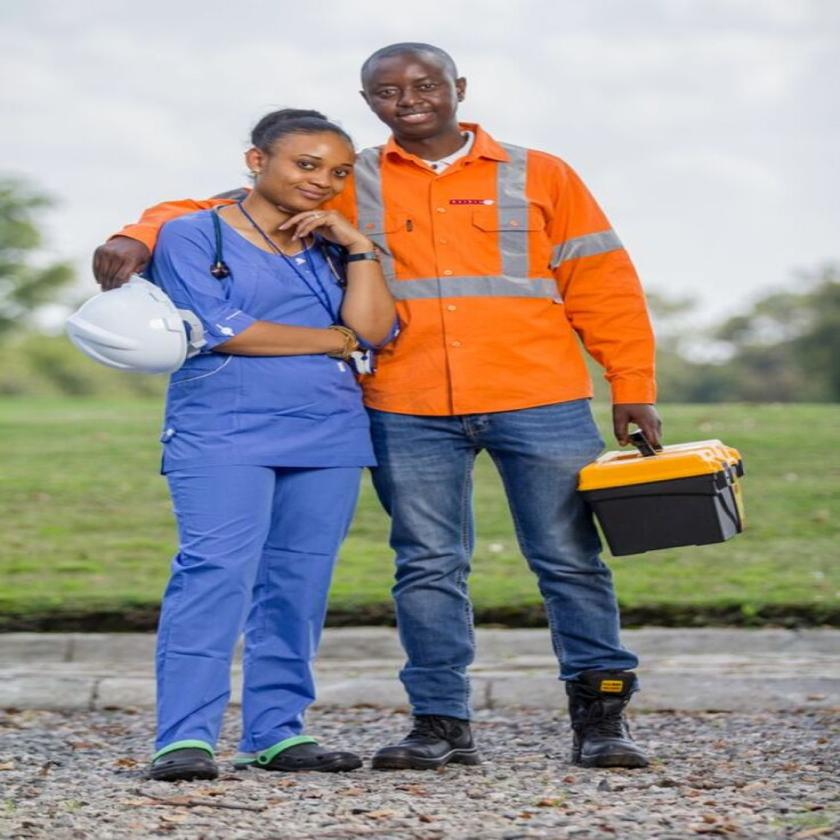Sin_casco: (354, 38, 474, 150), (240, 112, 361, 219)
